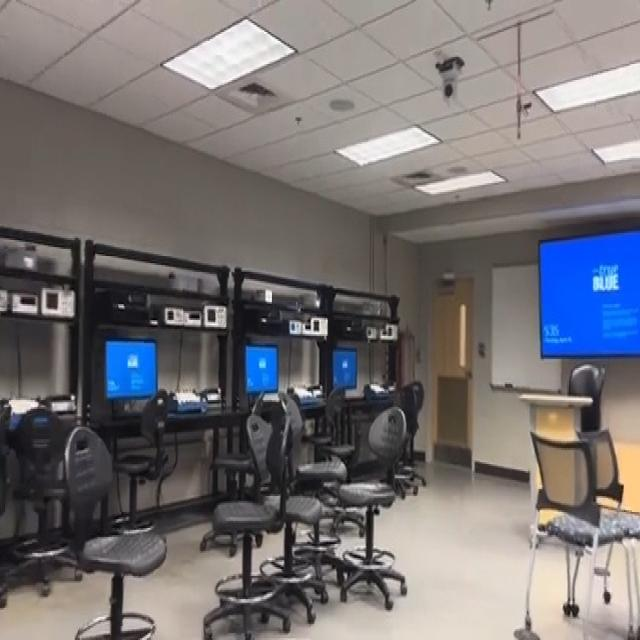drone: (284, 295, 308, 323)
